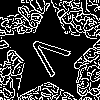V: (24, 29, 79, 85)
